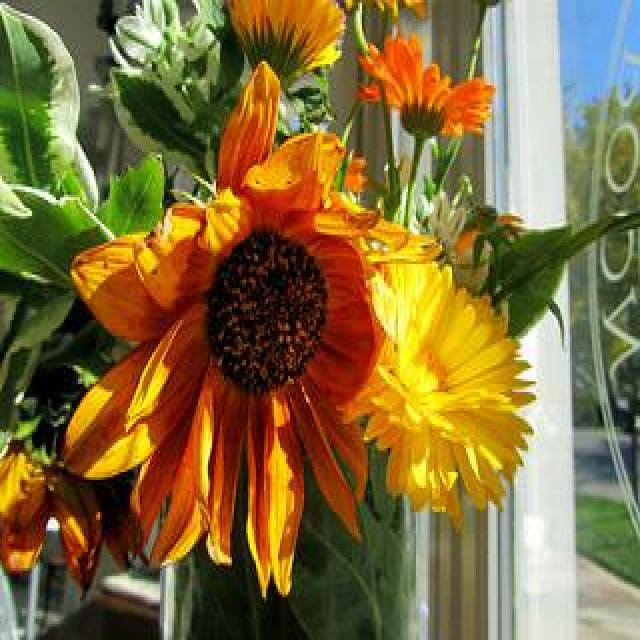sunflower: (62, 63, 438, 596), (365, 246, 536, 532), (0, 444, 151, 600), (359, 28, 497, 140), (226, 0, 346, 67)
